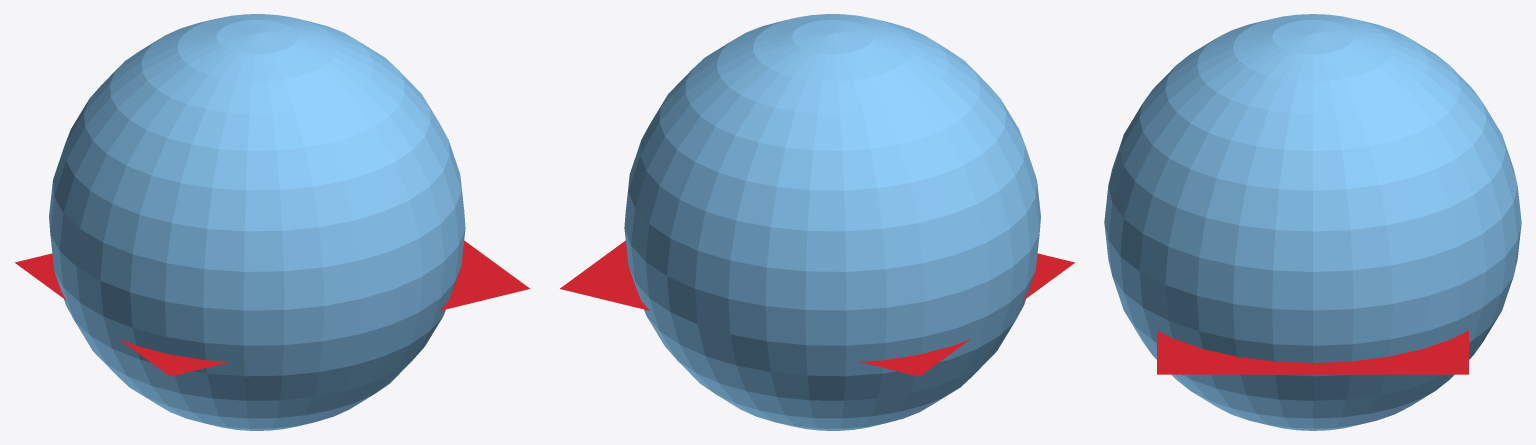
File: test-zone2.glb
3 renders of one model, left to right at view 1: azimuth 30°, elevation 25°; view 2: azimuth 150°, elevation 25°; view 3: azimuth 270°, elevation 25°, orthographic.
Visible parts, largest first — view 1: SkyBox, DeathPlane; view 2: SkyBox, DeathPlane; view 3: SkyBox, DeathPlane.
Boxes of the visible parts, bbox=[...] form: SkyBox: bbox=[49, 14, 465, 430]; DeathPlane: bbox=[15, 240, 529, 376]; SkyBox: bbox=[624, 14, 1040, 430]; DeathPlane: bbox=[560, 240, 1074, 376]; SkyBox: bbox=[1104, 14, 1521, 430]; DeathPlane: bbox=[1157, 330, 1468, 374].
Bounding box in the file's own units: 251 × 241 × 241.
14 materials, 13 textured.
